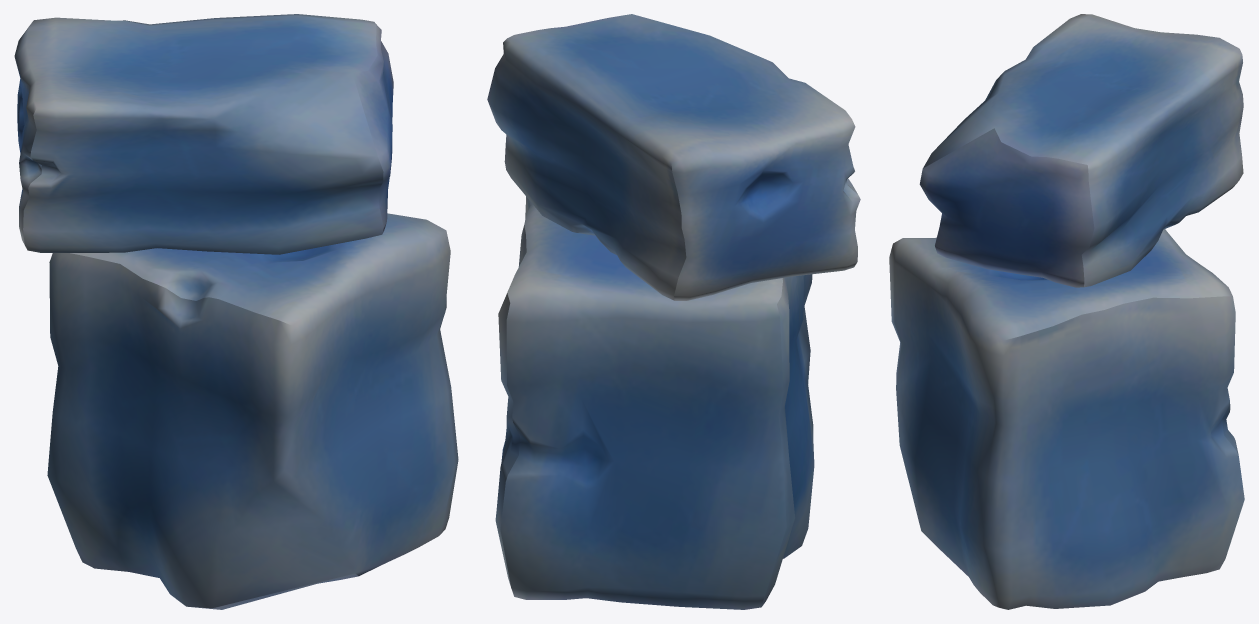
The model's file is p_dlc09_iceblock_02 (8).fbx.
The picture shows the model from 3 angles, left to right: view 1: azimuth 30°, elevation 25°; view 2: azimuth 150°, elevation 25°; view 3: azimuth 270°, elevation 25°; orthographic projection. The views are drawn at different scales.
Parts seen in each view (by area): view 1: p_dlc09_iceblock_02 (8), p_dlc09_iceblock_02 (12); view 2: p_dlc09_iceblock_02 (8), p_dlc09_iceblock_02 (12); view 3: p_dlc09_iceblock_02 (8), p_dlc09_iceblock_02 (12).
Part boxes in pixels (box(x1,y1,x2,y2)): p_dlc09_iceblock_02 (8): box(47, 213, 458, 609); p_dlc09_iceblock_02 (12): box(14, 14, 393, 254); p_dlc09_iceblock_02 (8): box(495, 196, 814, 609); p_dlc09_iceblock_02 (12): box(487, 14, 860, 300); p_dlc09_iceblock_02 (8): box(889, 229, 1244, 609); p_dlc09_iceblock_02 (12): box(919, 14, 1243, 287).
Bounding box in the file's own units: 1.95 × 1.72 × 2.45.
Materials: 1 (1 with a texture image).
